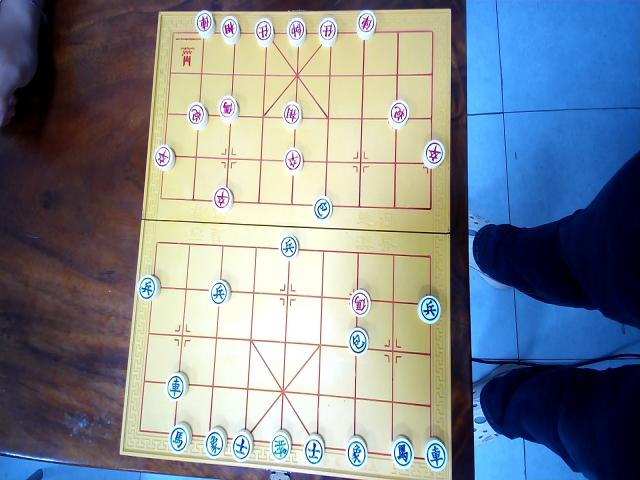piece: (424, 438, 447, 471), (391, 436, 414, 469), (303, 433, 325, 466), (231, 430, 253, 462), (205, 426, 226, 459), (346, 436, 367, 469), (169, 422, 191, 453), (270, 430, 291, 462), (165, 372, 188, 401), (417, 296, 440, 323), (423, 140, 445, 168), (388, 100, 409, 129), (137, 275, 160, 301), (187, 102, 208, 130), (254, 18, 274, 47), (220, 16, 240, 45), (195, 10, 215, 39), (357, 10, 376, 40), (218, 96, 239, 123), (154, 144, 175, 171), (212, 186, 233, 213), (348, 328, 368, 356), (350, 289, 370, 317), (318, 18, 337, 47), (287, 18, 306, 47), (279, 234, 299, 261), (283, 148, 303, 175), (283, 101, 302, 129), (210, 280, 230, 306), (313, 196, 332, 221)
